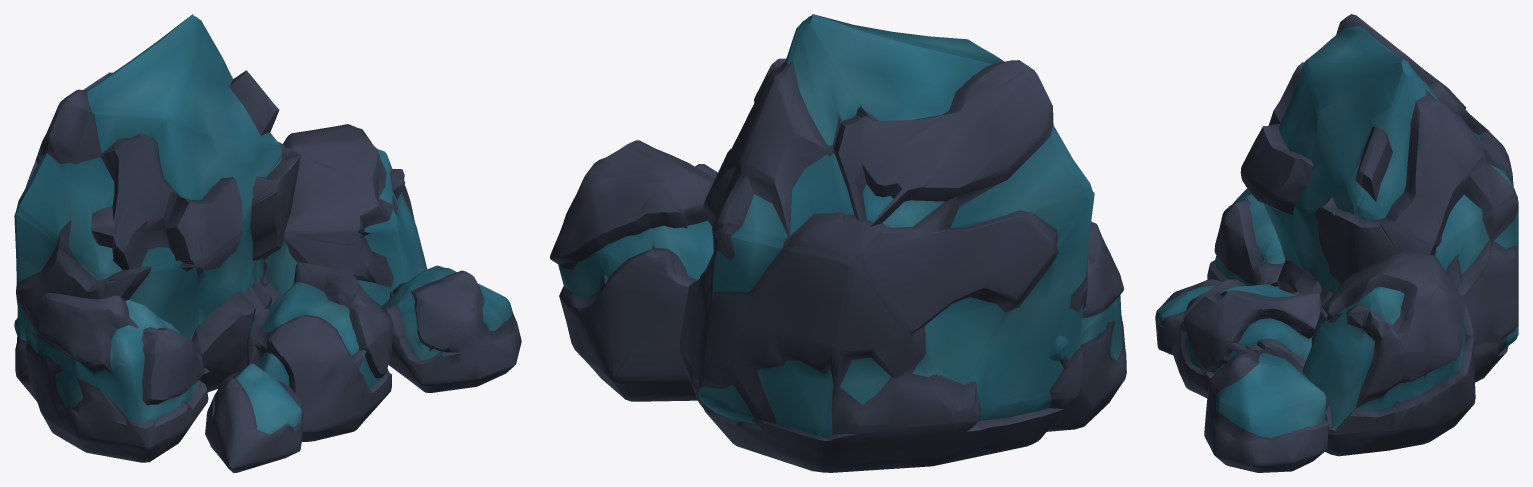
File: corealm_ore_kaldite.glb
3 views of the same model, side by side, from view 1: azimuth 30°, elevation 25°; view 2: azimuth 150°, elevation 25°; view 3: azimuth 270°, elevation 25° (orthographic). The views are drawn at different scales.
Visible parts, largest first — view 1: corealm_ore_kaldite; view 2: corealm_ore_kaldite; view 3: corealm_ore_kaldite.
Part boxes in pixels (x1,y1,x2,y2): corealm_ore_kaldite: (14,14,521,472); corealm_ore_kaldite: (550,14,1126,472); corealm_ore_kaldite: (1155,14,1518,472).
Bounding box in the file's own units: 1.42 × 1.02 × 1.08.
